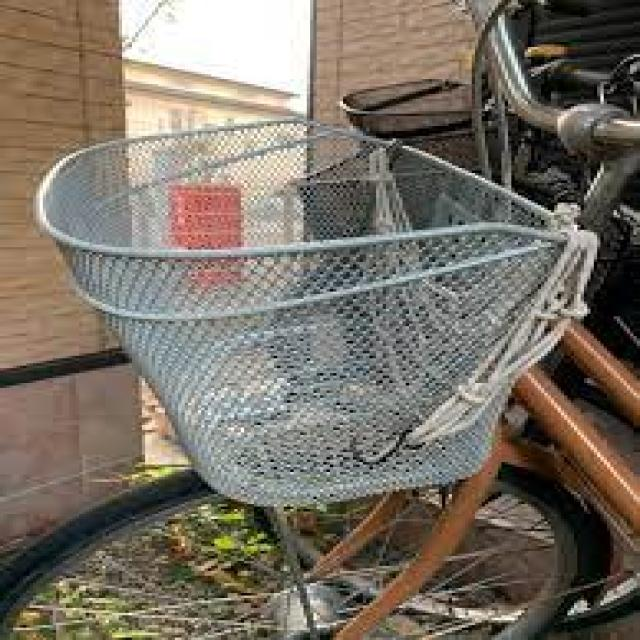basket: (34, 117, 576, 510)
